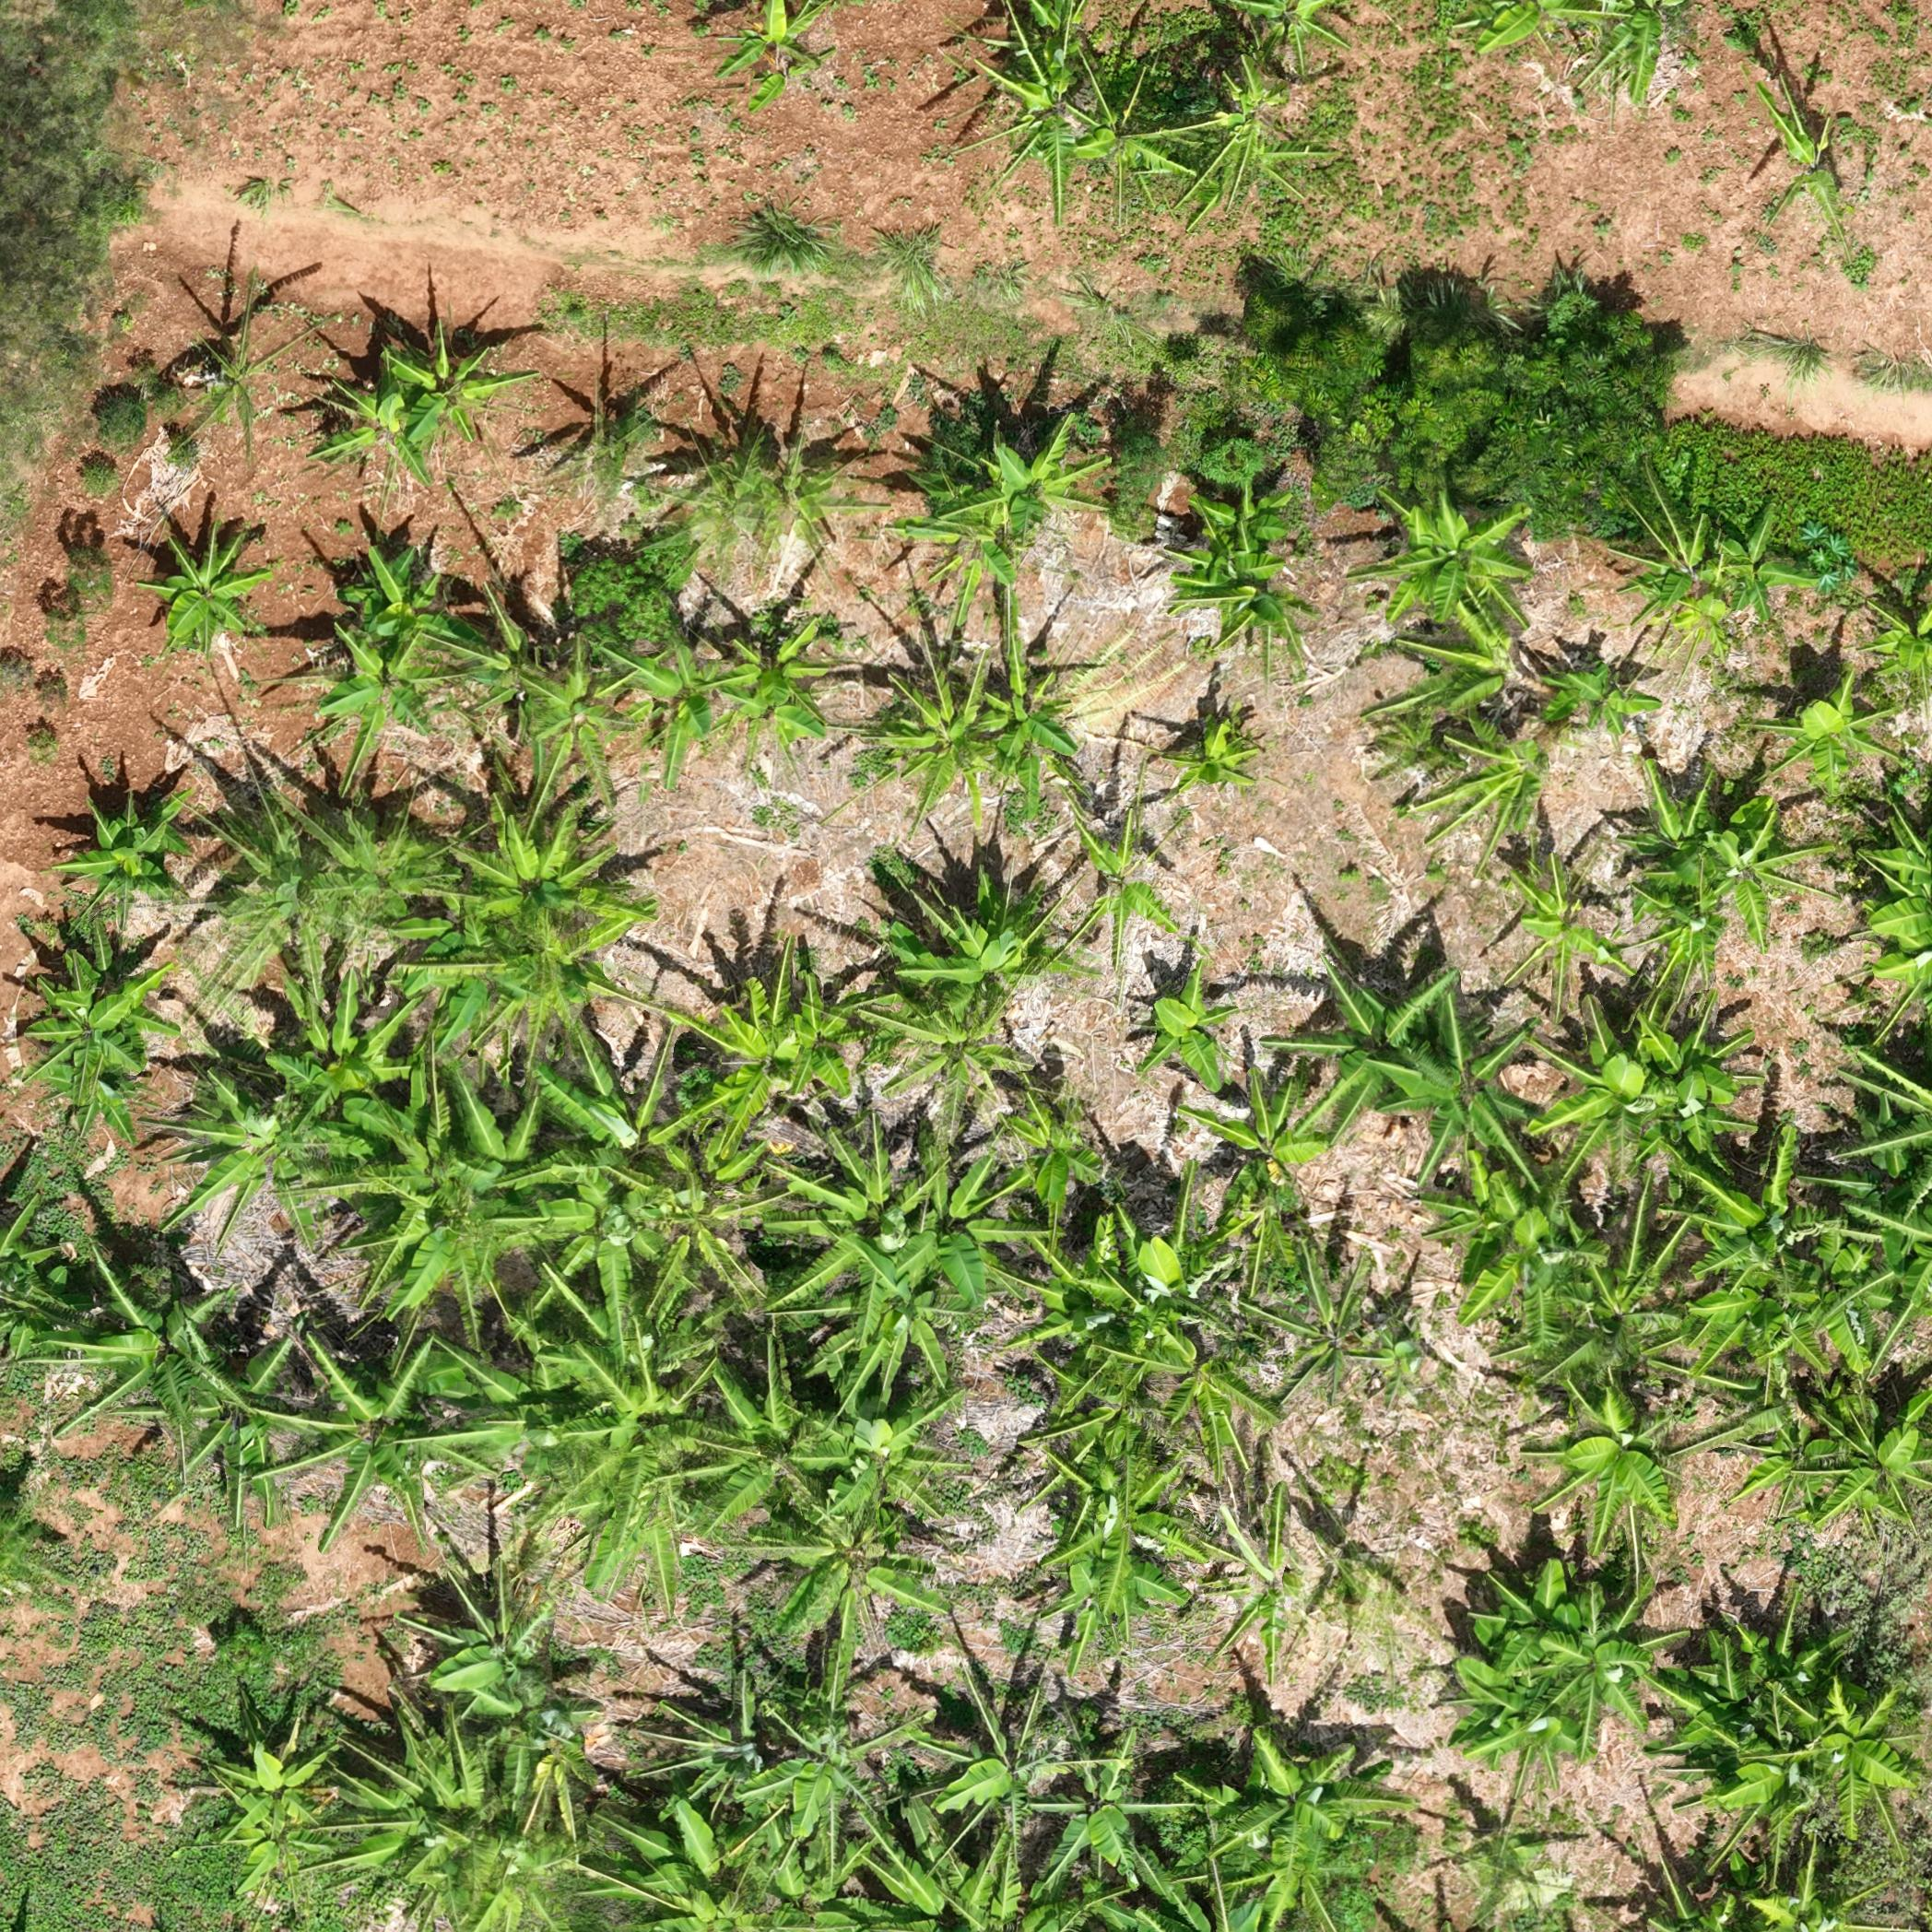Banana: (529, 1323, 752, 1626), (246, 1307, 494, 1560), (1449, 1530, 1661, 1810), (324, 1090, 573, 1323), (1651, 1596, 1865, 1858), (46, 1228, 253, 1495), (134, 1063, 372, 1253), (1258, 916, 1447, 1152), (671, 934, 867, 1161), (389, 1313, 602, 1520), (1401, 1138, 1594, 1362), (379, 1553, 612, 1736), (916, 4, 1092, 234), (759, 1109, 932, 1322), (1511, 1368, 1709, 1553), (253, 918, 441, 1108), (1194, 1486, 1366, 1691), (524, 1134, 701, 1332), (196, 1684, 361, 1895), (1736, 67, 1895, 281), (272, 768, 472, 938), (437, 787, 665, 936), (987, 1191, 1171, 1375), (665, 1357, 835, 1550), (885, 853, 1069, 1028), (166, 777, 341, 961), (906, 1656, 1079, 1842), (524, 1014, 695, 1191), (152, 1323, 311, 1513), (1023, 1472, 1237, 1612), (839, 1776, 1033, 1928), (1343, 479, 1534, 633), (1426, 1787, 1617, 1927), (594, 621, 743, 800), (628, 1656, 786, 1824), (587, 1790, 775, 1928), (617, 416, 770, 586), (1166, 1063, 1341, 1208), (1497, 846, 1637, 1026), (51, 784, 209, 943), (853, 996, 1070, 1106), (1741, 665, 1911, 805), (131, 504, 276, 667), (632, 1152, 773, 1318), (1060, 800, 1185, 985), (1030, 1711, 1169, 1875), (18, 920, 184, 1058), (1622, 1003, 1766, 1161), (688, 5, 883, 119), (1362, 616, 1527, 748), (1608, 754, 1752, 888), (333, 533, 476, 653), (1021, 1831, 1192, 1930), (1608, 455, 1713, 612), (557, 370, 669, 515), (1134, 957, 1238, 1104), (1001, 1083, 1122, 1210), (1180, 474, 1302, 568), (1437, 2, 1566, 73)
